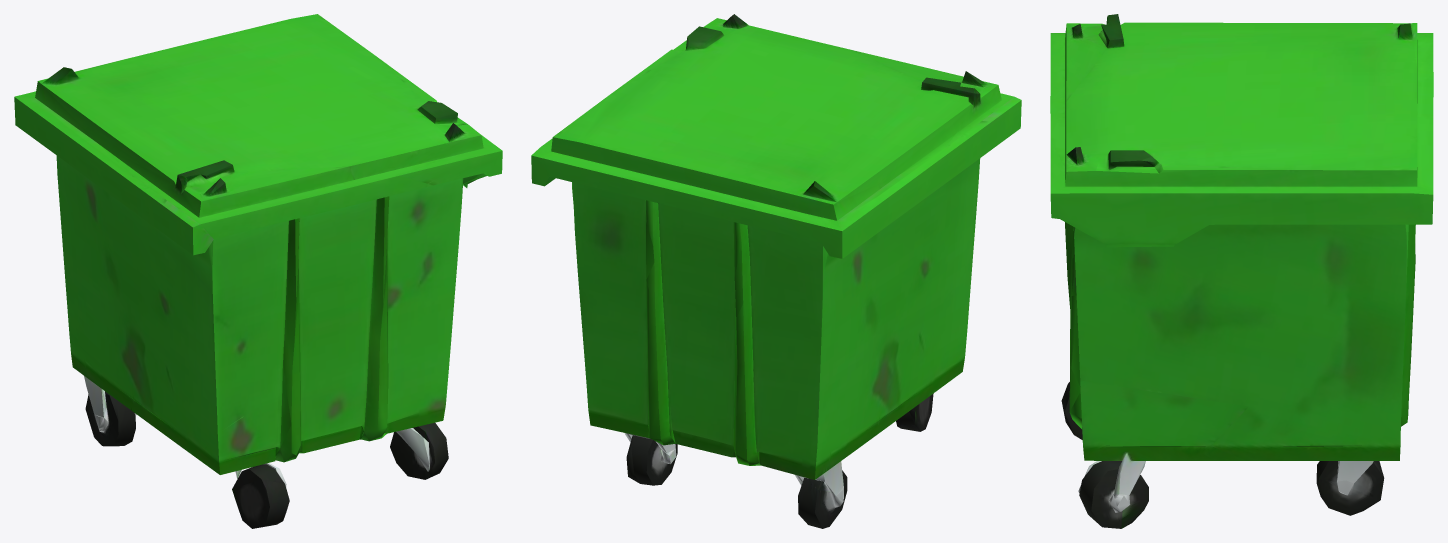
File: dumpster.glb
The picture shows the model from 3 angles, left to right: view 1: azimuth 30°, elevation 25°; view 2: azimuth 150°, elevation 25°; view 3: azimuth 270°, elevation 25°; orthographic projection. The views are drawn at different scales.
Parts seen in each view (by area): view 1: model; view 2: model; view 3: model.
Part boxes in pixels (bbox=[...]): model: bbox=[14, 14, 502, 528]; model: bbox=[531, 14, 1021, 528]; model: bbox=[1050, 14, 1433, 528].
Bounding box in the file's own units: 1.7 × 1.9 × 1.7.
1 material, 1 textured.
